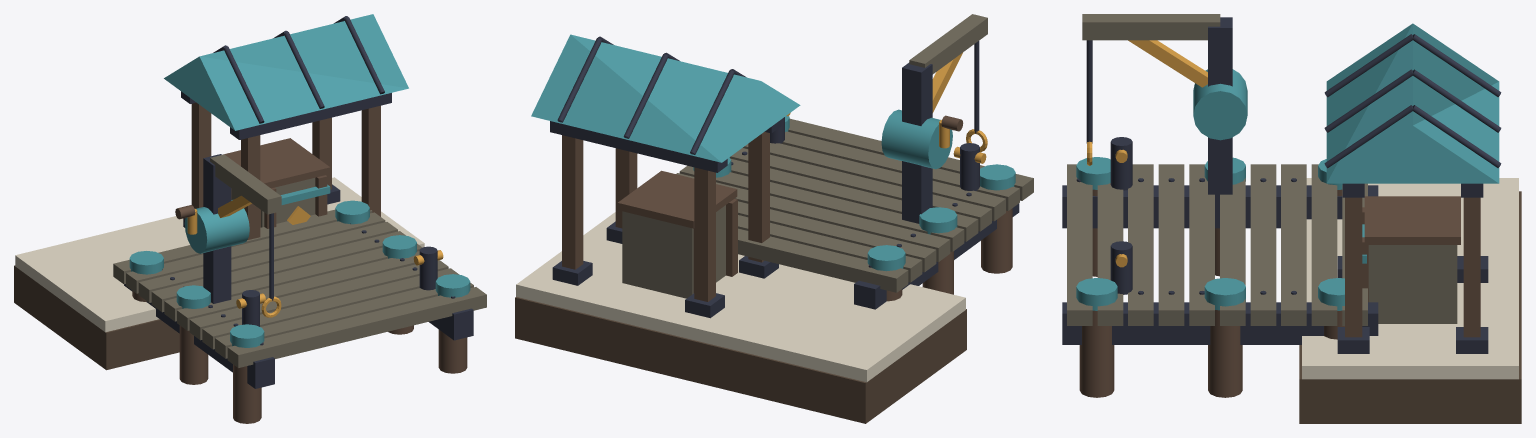
File: river_quay.glb
3 views of the same model, side by side, from view 1: azimuth 30°, elevation 25°; view 2: azimuth 150°, elevation 25°; view 3: azimuth 270°, elevation 25° (orthographic). The views are drawn at different scales.
Parts seen in each view (by area): view 1: river_quay weathered_wood, river_quay copper, river_quay wood, river_quay ink, river_quay mist, river_quay soil, river_quay ochre; view 2: river_quay weathered_wood, river_quay mist, river_quay copper, river_quay soil, river_quay wood, river_quay ink, river_quay ochre; view 3: river_quay weathered_wood, river_quay copper, river_quay ink, river_quay mist, river_quay wood, river_quay soil, river_quay ochre.
Boxes of the visible parts, x1=… form: river_quay weathered_wood: x1=113, y1=154, x2=486, y2=367; river_quay copper: x1=129, y1=14, x2=470, y2=347; river_quay wood: x1=132, y1=102, x2=467, y2=423; river_quay ink: x1=124, y1=16, x2=473, y2=388; river_quay mist: x1=15, y1=177, x2=424, y2=332; river_quay soil: x1=14, y1=265, x2=179, y2=370; river_quay ochre: x1=187, y1=195, x2=443, y2=317; river_quay weathered_wood: x1=622, y1=14, x2=1033, y2=298; river_quay mist: x1=516, y1=212, x2=965, y2=382; river_quay copper: x1=531, y1=34, x2=1015, y2=271; river_quay soil: x1=515, y1=297, x2=966, y2=423; river_quay wood: x1=562, y1=115, x2=1012, y2=301; river_quay ink: x1=550, y1=36, x2=1019, y2=318; river_quay ochre: x1=786, y1=52, x2=987, y2=163; river_quay weathered_wood: x1=1067, y1=14, x2=1457, y2=325; river_quay copper: x1=1076, y1=23, x2=1499, y2=310; river_quay ink: x1=1062, y1=17, x2=1501, y2=353; river_quay mist: x1=1302, y1=178, x2=1518, y2=379; river_quay wood: x1=1079, y1=189, x2=1480, y2=397; river_quay soil: x1=1299, y1=191, x2=1521, y2=423; river_quay ochre: x1=1087, y1=40, x2=1207, y2=267.
Size of the model in its own units: 0.9 by 0.6706 by 0.93.
